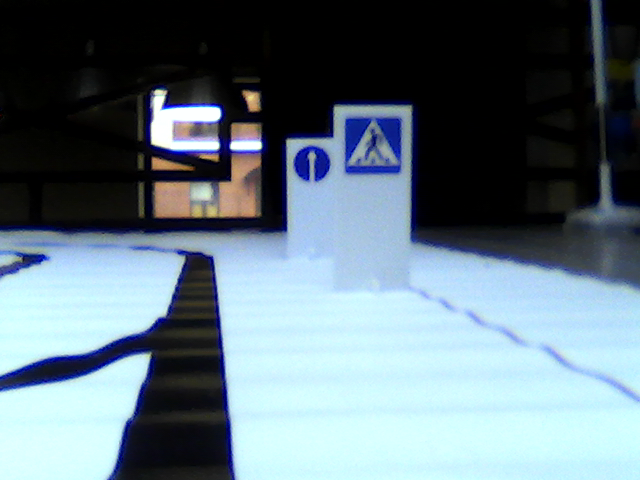forw: (292, 145, 332, 182)
pesh: (343, 118, 400, 174)
